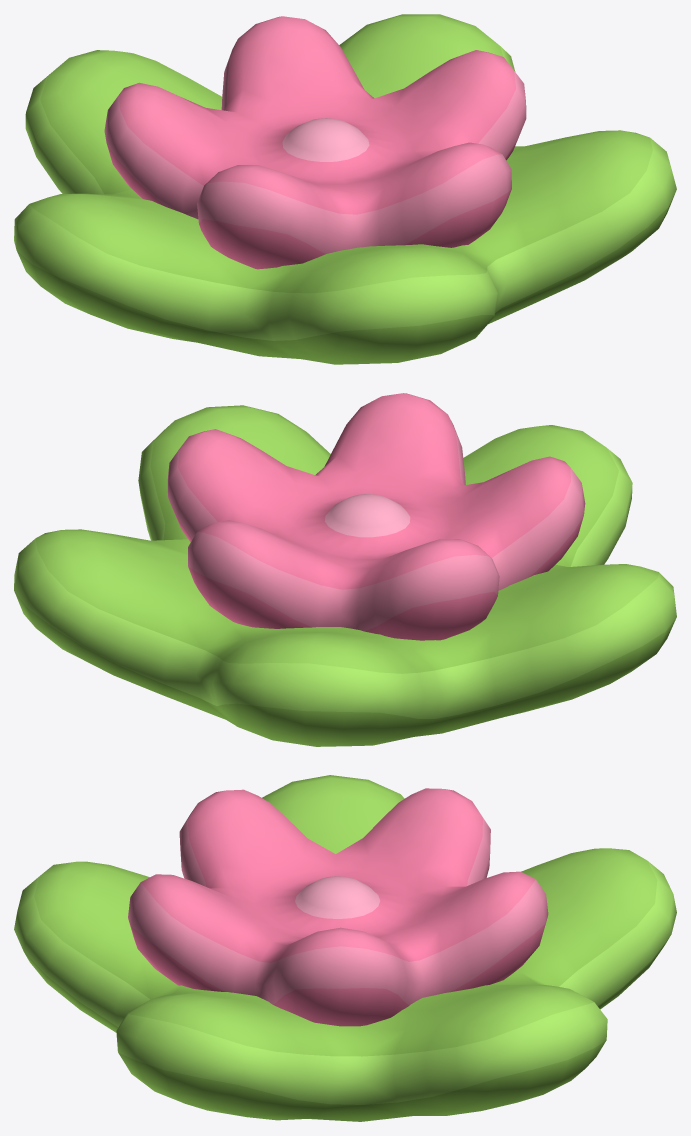
The model's file is Character_Plant4.fbx.
3 views of the same model, one above another, from view 1: azimuth 30°, elevation 25°; view 2: azimuth 150°, elevation 25°; view 3: azimuth 270°, elevation 25° (orthographic). The views are drawn at different scales.
Visible parts, largest first — view 1: flower_pink; view 2: flower_pink; view 3: flower_pink.
Part boxes in pixels (bbox=[...]): flower_pink: bbox=[14, 14, 676, 364]; flower_pink: bbox=[14, 393, 676, 746]; flower_pink: bbox=[14, 775, 676, 1121].
Bounding box in the file's own units: 101 × 36.16 × 103.
1 material, 1 textured.
